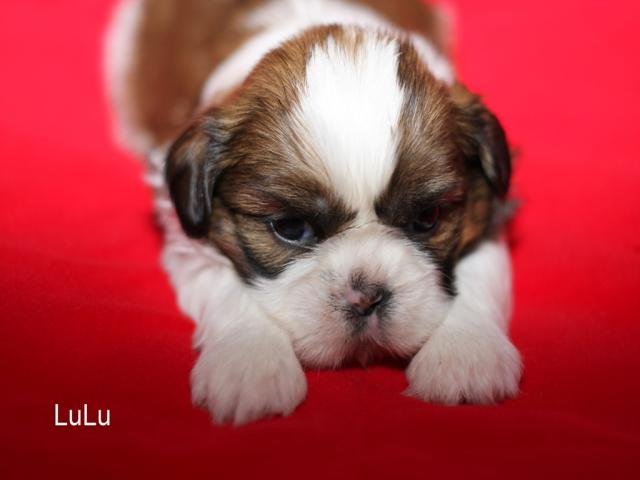Dog: (104, 0, 537, 420)
